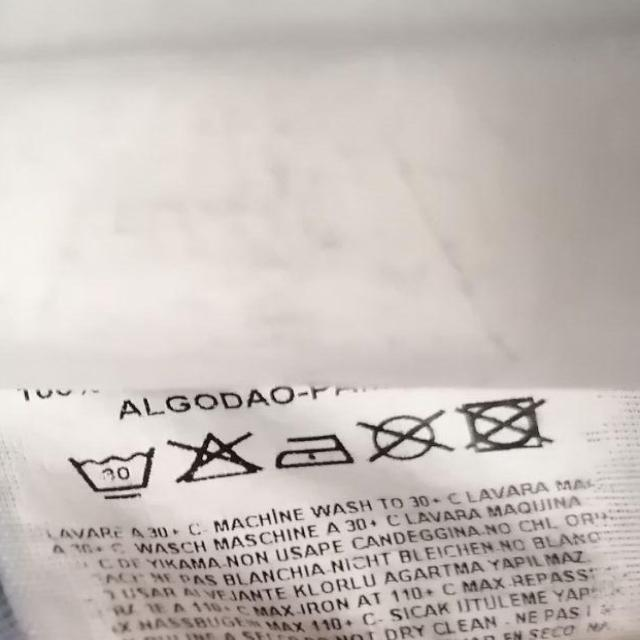30C: (68, 441, 156, 508)
DN_bleach: (168, 421, 258, 489)
DN_dry_clean: (363, 403, 445, 470)
DN_tumble_dry: (464, 392, 546, 454)
iron_low: (271, 425, 354, 479)
